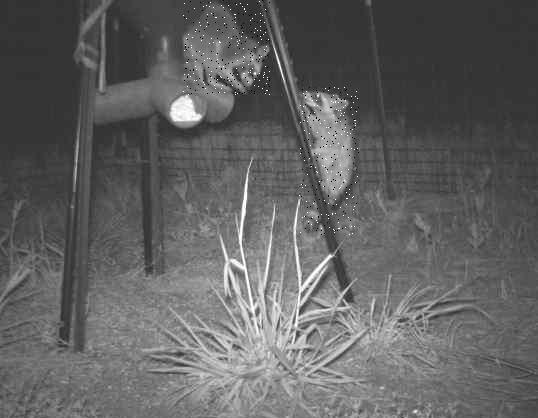Raccoon: (298, 88, 358, 236), (183, 0, 271, 95)
